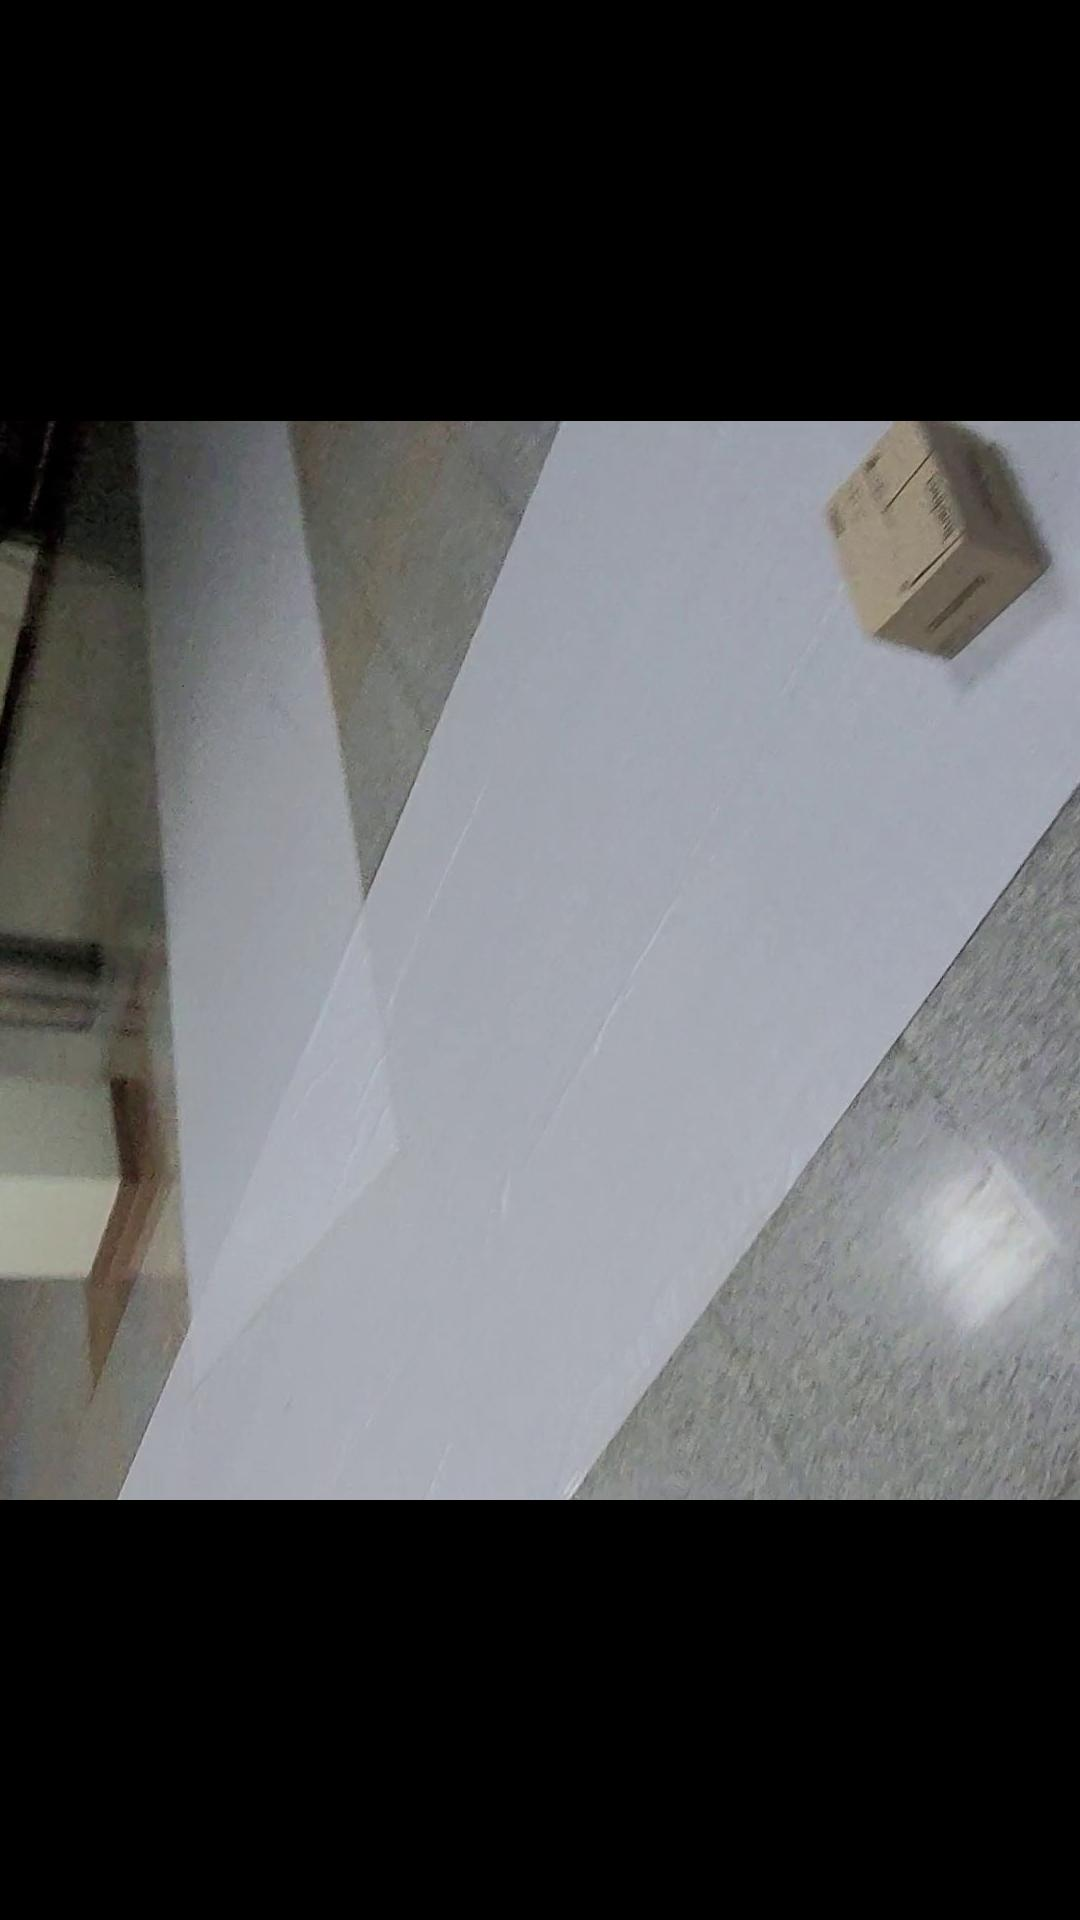Box: (815, 419, 1047, 702)
